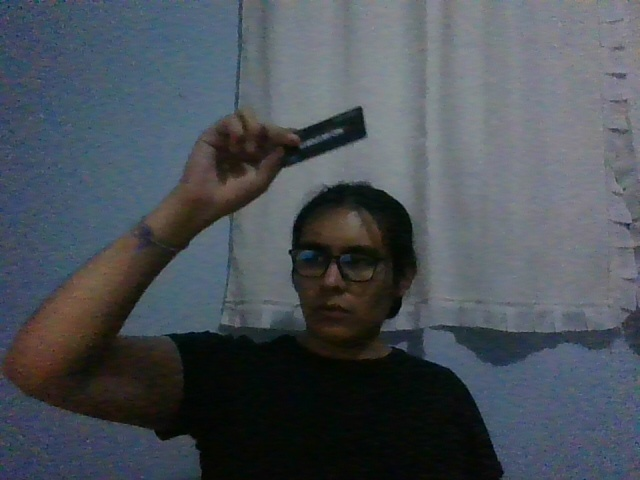tarjeta: (283, 105, 367, 167)
